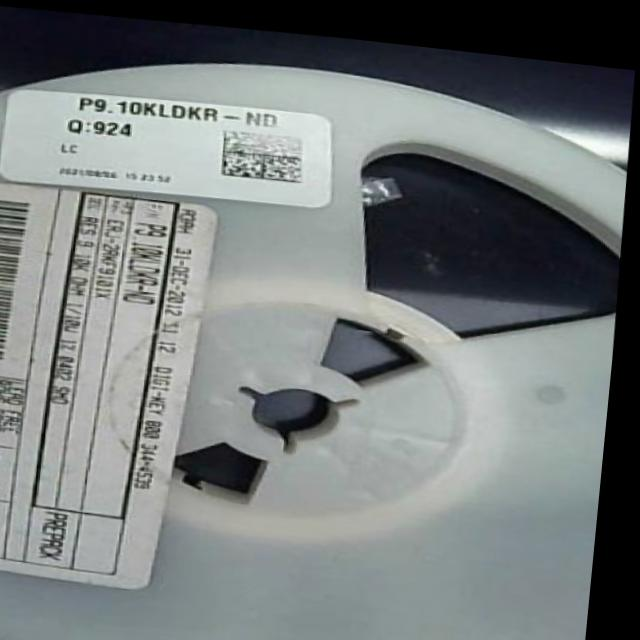datamatrix: (220, 121, 311, 181)
